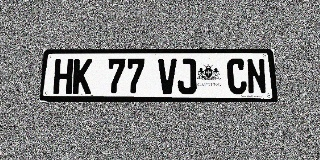7: (106, 59, 126, 94), (125, 59, 145, 94)
C: (227, 59, 247, 94)
H: (53, 59, 73, 94)
J: (177, 59, 197, 94)
K: (72, 59, 92, 94)
N: (246, 59, 267, 94)
V: (158, 59, 177, 94)
